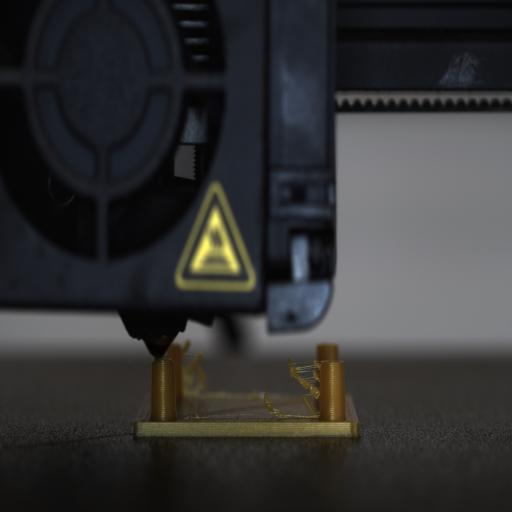stringing: (182, 343, 208, 398), (288, 357, 320, 398)
